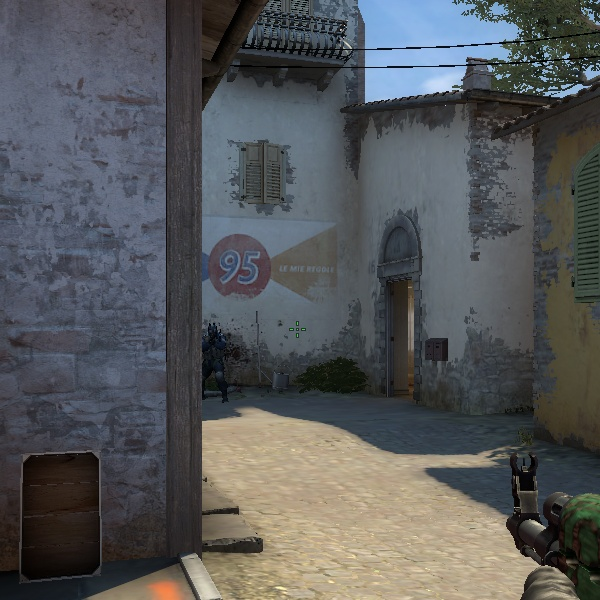ct_body: (203, 322, 231, 402)
